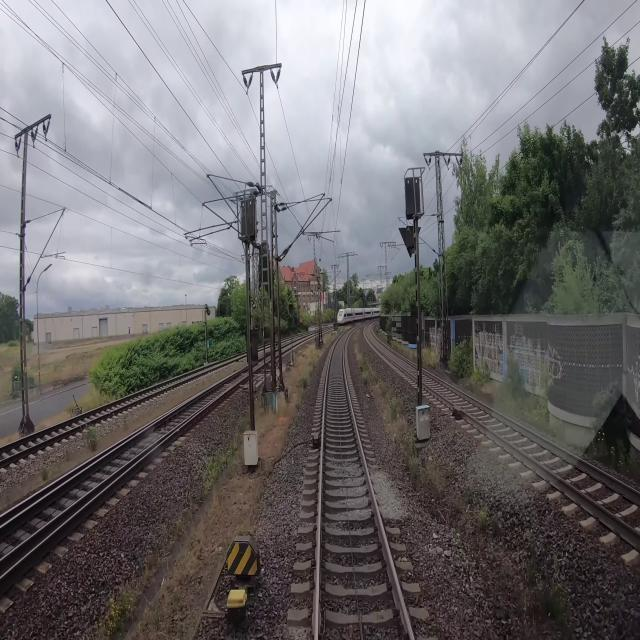Plant: (352, 348, 447, 514), (474, 529, 577, 639), (200, 432, 240, 492), (101, 579, 141, 633), (472, 493, 495, 542), (296, 374, 309, 391)
